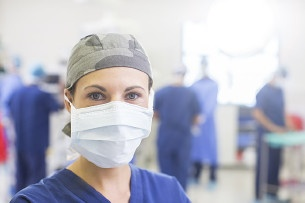Mask: (71, 81, 154, 164)
